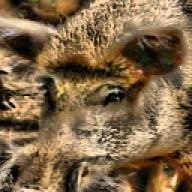boar: (0, 0, 192, 192), (0, 0, 84, 111)
